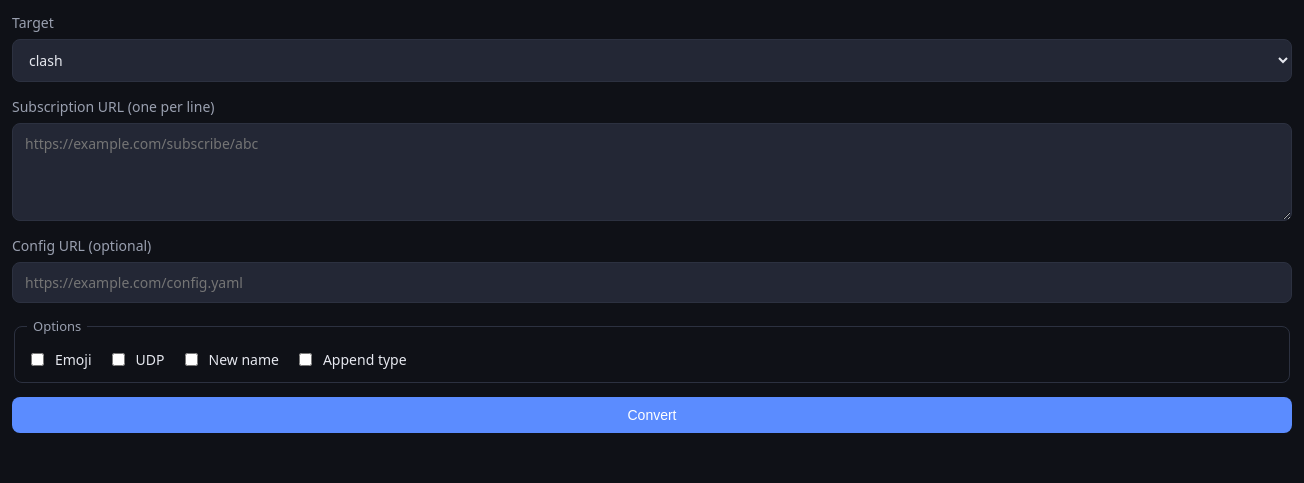
Test: ConversionForm › shows a validation error and does not submit when url is empty
Select "clash" in the dropdown labelled "Target" at [652, 60], box x1=12 y1=39 x2=1292 y2=82
Click the button "Convert" at [652, 414], box x1=12 y1=396 x2=1292 y2=432
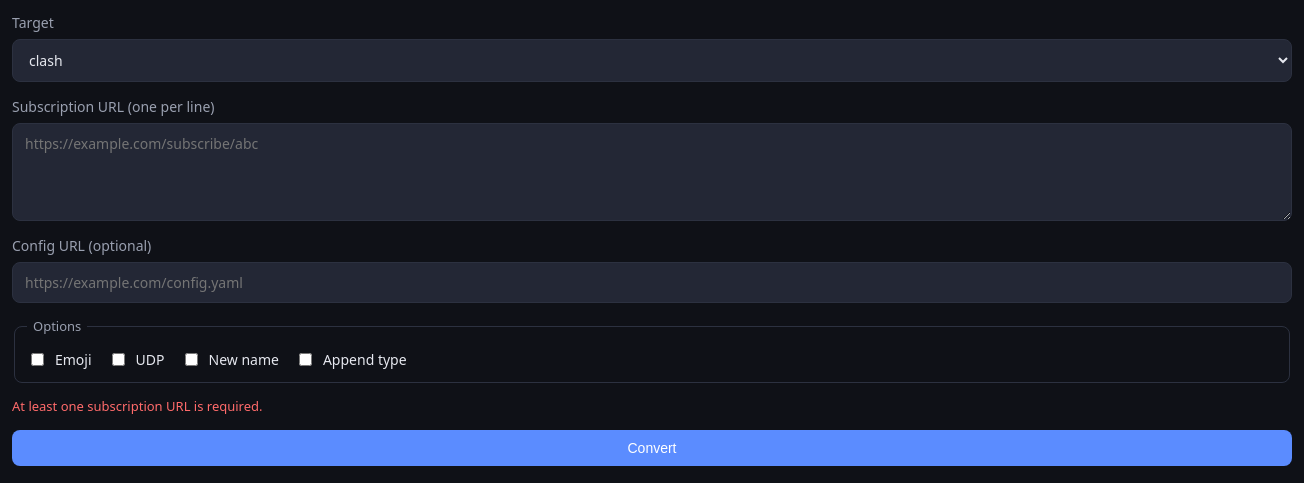
Result: the text "At least one subscription URL is required." is shown at x1=12 y1=396 x2=262 y2=414
